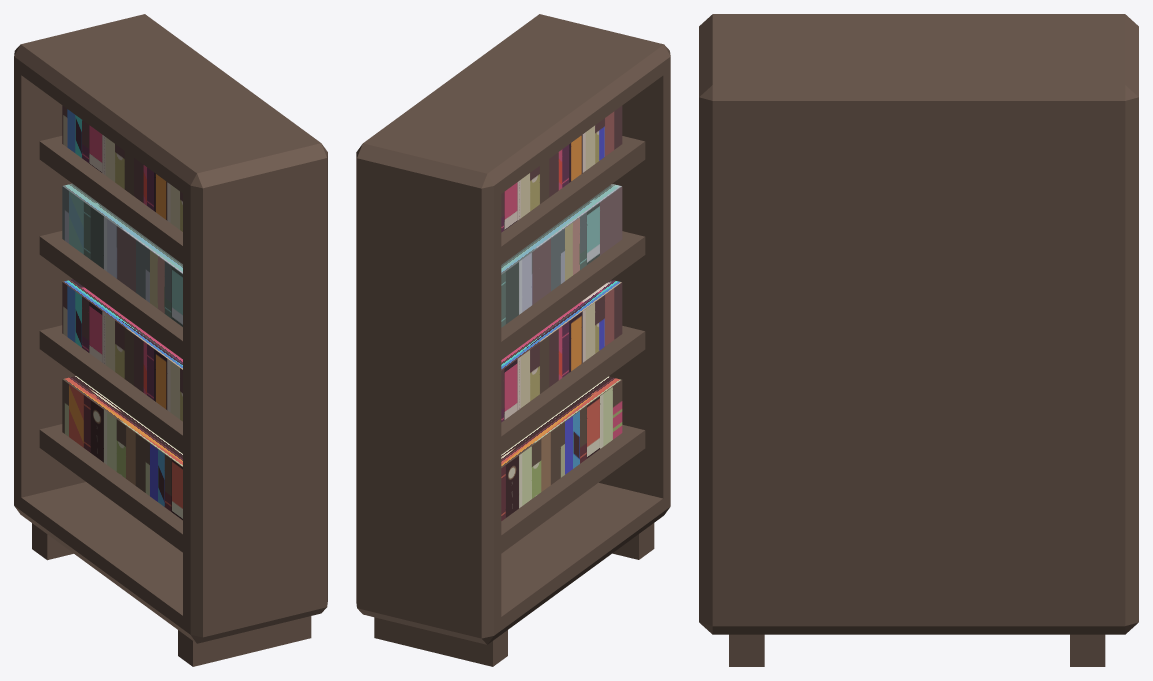
File: Sala_Librero_05.fbx
3 views of the same model, side by side, from view 1: azimuth 30°, elevation 25°; view 2: azimuth 150°, elevation 25°; view 3: azimuth 270°, elevation 25° (orthographic). The views are drawn at different scales.
Visible parts, largest first — view 1: librero; view 2: librero; view 3: librero.
Boxes of the visible parts, left/top/right/bottom form: librero: left=14, top=14, right=327, bottom=666; librero: left=356, top=14, right=670, bottom=666; librero: left=699, top=14, right=1138, bottom=666.
Size of the model in its own units: 29.27 by 102 by 69.41.
Materials: 4 (4 with a texture image).
